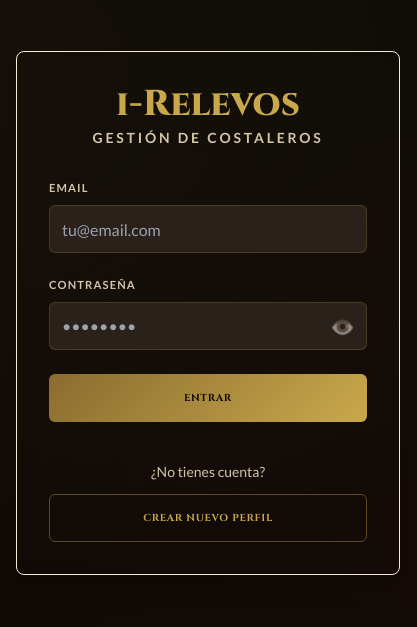
LoginPage › displays Spanish error message on invalid credentials
Type "test@test.com" into the field labelled "Email" at (208, 229), box [49,205,367,253]
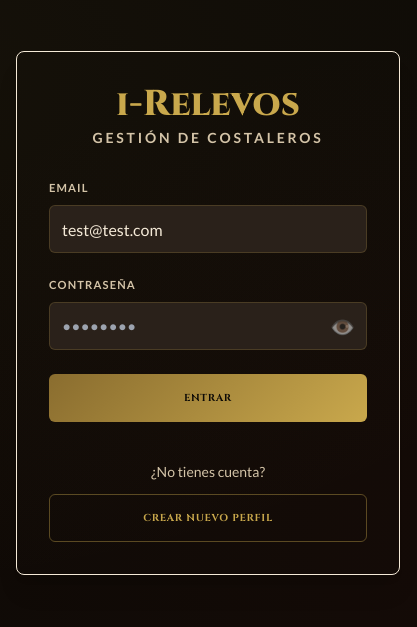
Type "wrongpassword" into the password field labelled "Contraseña" at (208, 326), box [49,302,367,350]
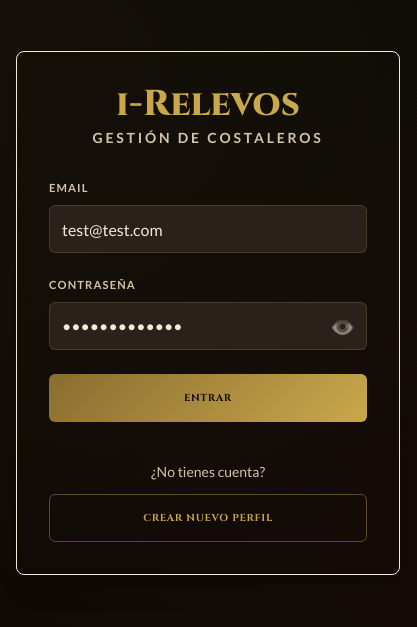
Click the button "ENTRAR" at (208, 398), box [49,374,367,422]
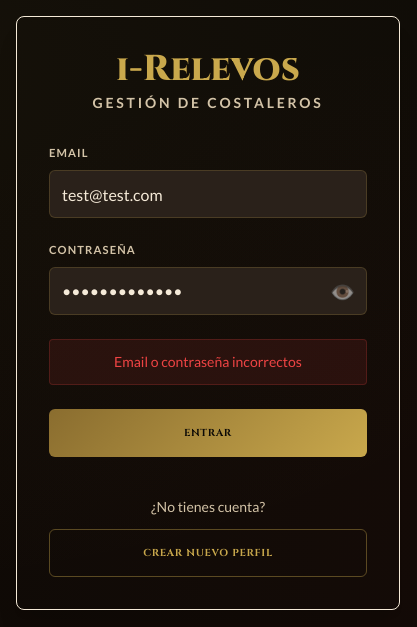
Check: the text "Email o contraseña incorrectos" is shown, box [49,339,367,385]
